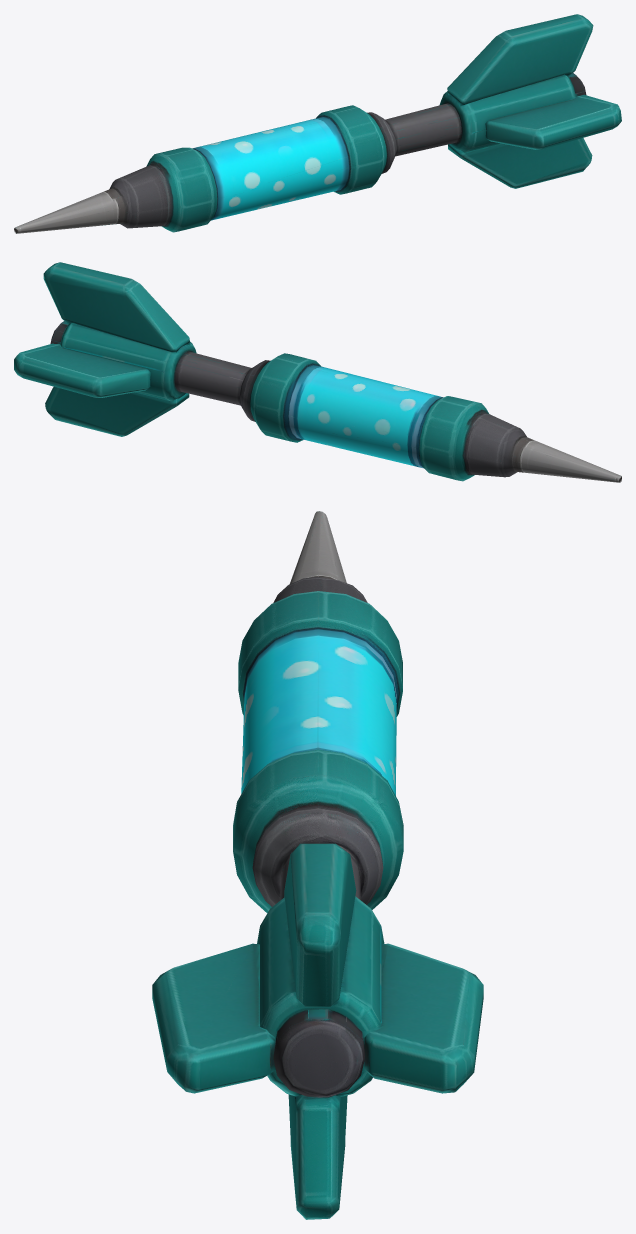
The model's file is Meshy_AI_vet_tranquilizer_dart_3d_20261029_texture.fbx.
The picture shows the model from 3 angles, top to bottom: view 1: azimuth 30°, elevation 25°; view 2: azimuth 150°, elevation 25°; view 3: azimuth 270°, elevation 25°; orthographic projection. The views are drawn at different scales.
Parts seen in each view (by area): view 1: Mesh_0; view 2: Mesh_0; view 3: Mesh_0.
Part boxes in pixels (x1,y1,x2,y2): Mesh_0: (14,14,621,233); Mesh_0: (14,262,621,482); Mesh_0: (152,511,483,1219).
Bounding box in the file's own units: 95.61 × 24.37 × 23.88.
Materials: 1 (1 with a texture image).
